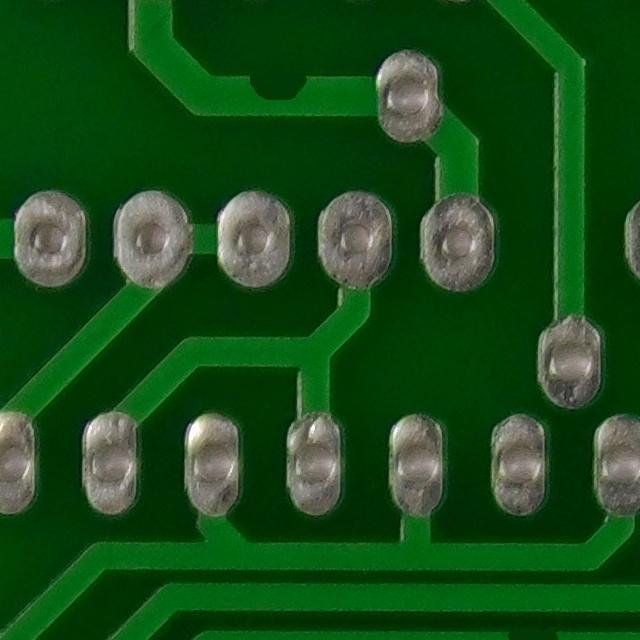mouse_bite: (233, 56, 320, 128), (489, 612, 572, 640)
